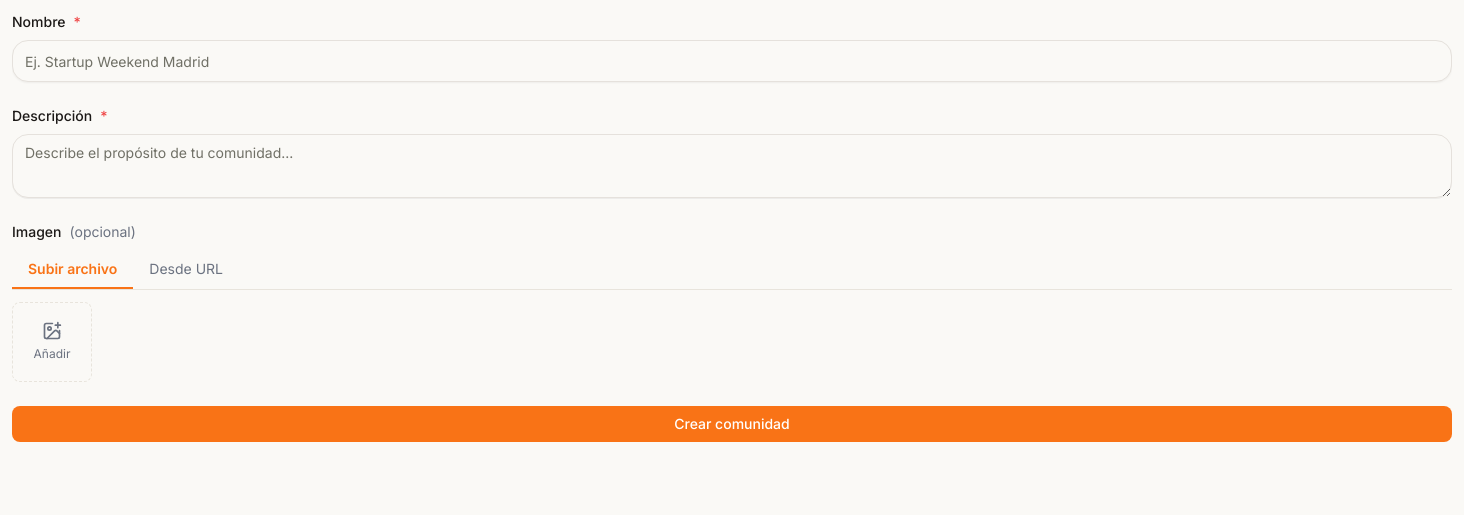
Test: CommunityForm — validación zod al submit vacío › muestra errores de validación con role="alert" al enviar formulario vacío
The image size is (1464, 515).
Click the button "Crear comunidad". click: (732, 424)
box: top-left (12, 406), bottom-right (1452, 442)
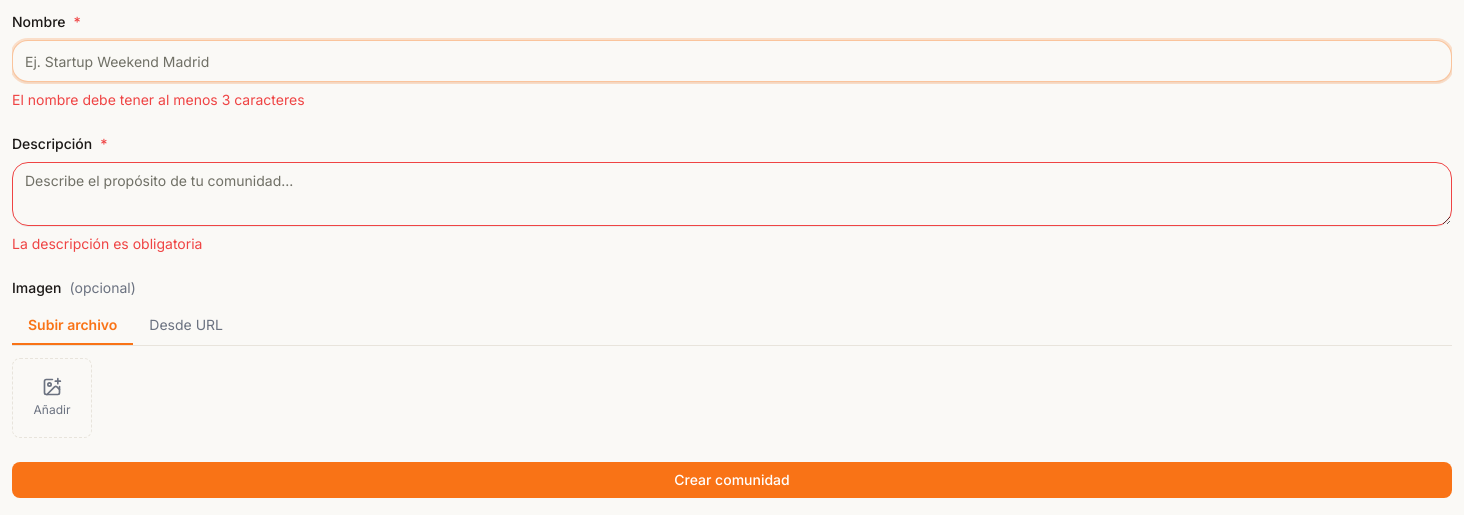
Result: the text "El nombre debe tener al menos 3 caracteres" is shown at top-left (12, 91), bottom-right (305, 108)
Result: the text "La descripción es obligatoria" is shown at top-left (12, 235), bottom-right (202, 252)
